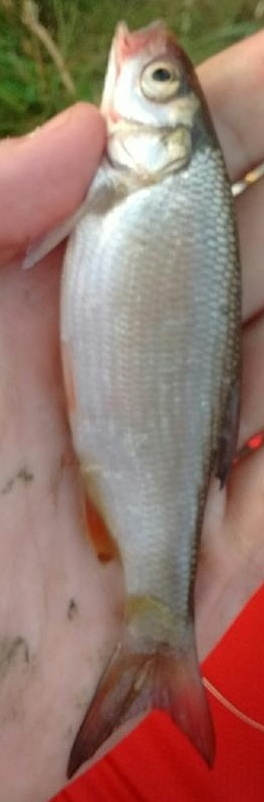Leuciscus idus: (20, 20, 244, 782)
